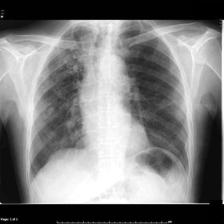tuberculosis: (23, 22, 195, 187)
